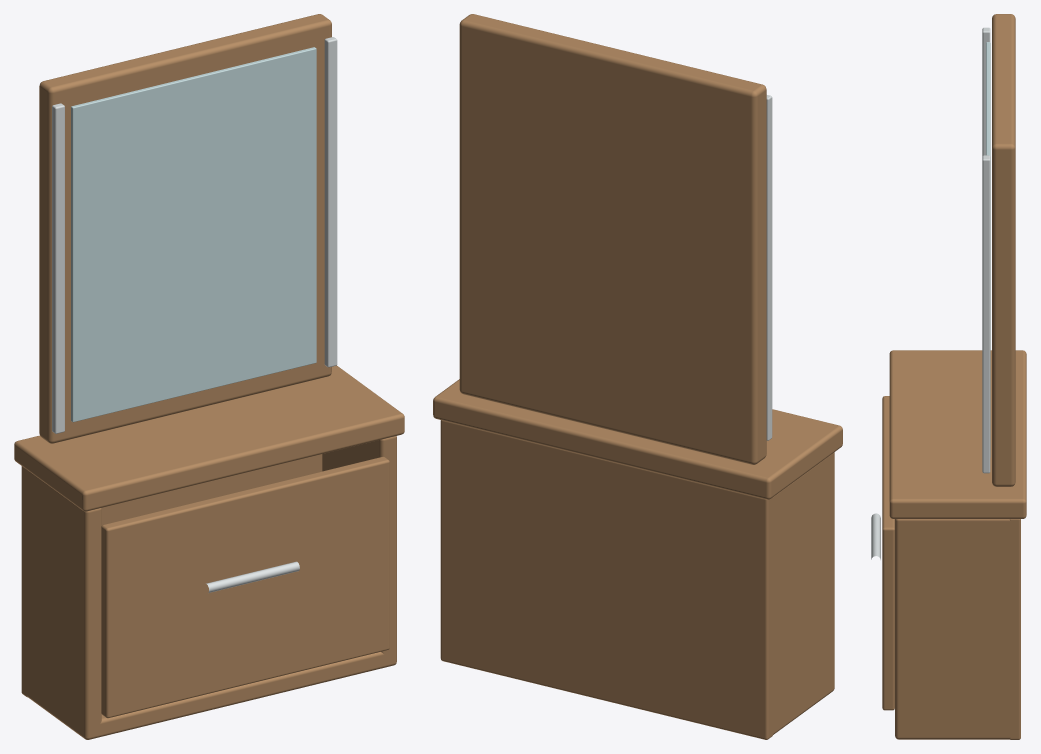
The model's file is barbershop-and-hair-salon-wall-mirror-station-e00261e6__29640.glb.
3 views of the same model, side by side, from view 1: azimuth 30°, elevation 25°; view 2: azimuth 150°, elevation 25°; view 3: azimuth 270°, elevation 25° (orthographic). The views are drawn at different scales.
Visible parts, largest first — view 1: wall-mirror-station; view 2: wall-mirror-station; view 3: wall-mirror-station.
Part boxes in pixels (left/top/right/bottom): wall-mirror-station: left=14, top=14, right=404, bottom=739; wall-mirror-station: left=433, top=14, right=842, bottom=739; wall-mirror-station: left=871, top=14, right=1026, bottom=739.
Size of the model in its own units: 1.14 by 2.06 by 0.4924.
